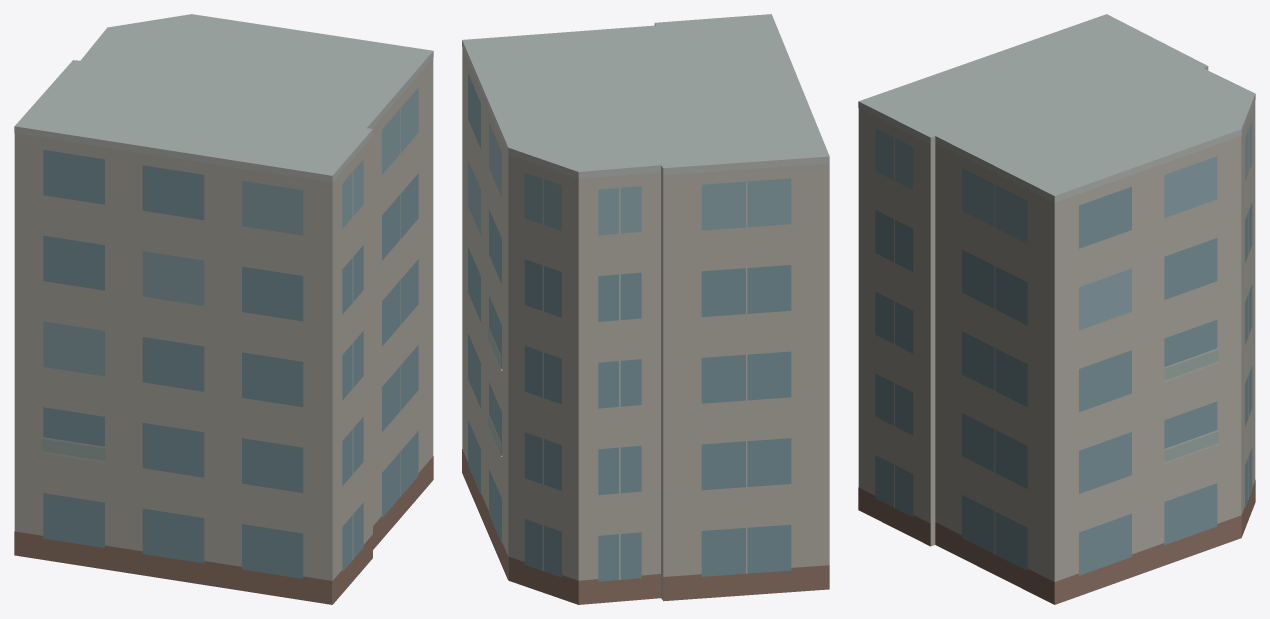
Rendered from survey-upis-32598936.glb.
3 views of the same model, side by side, from view 1: azimuth 30°, elevation 25°; view 2: azimuth 150°, elevation 25°; view 3: azimuth 270°, elevation 25° (orthographic). The views are drawn at different scales.
Visible parts, largest first — view 1: survey-upis-32598936.tmp; view 2: survey-upis-32598936.tmp; view 3: survey-upis-32598936.tmp.
Boxes of the visible parts, x1,y1,x2,y2 form: survey-upis-32598936.tmp: (14, 14, 433, 604); survey-upis-32598936.tmp: (462, 14, 829, 604); survey-upis-32598936.tmp: (858, 14, 1255, 604).
Bounding box in the file's own units: 14.53 × 15.2 × 13.39.
